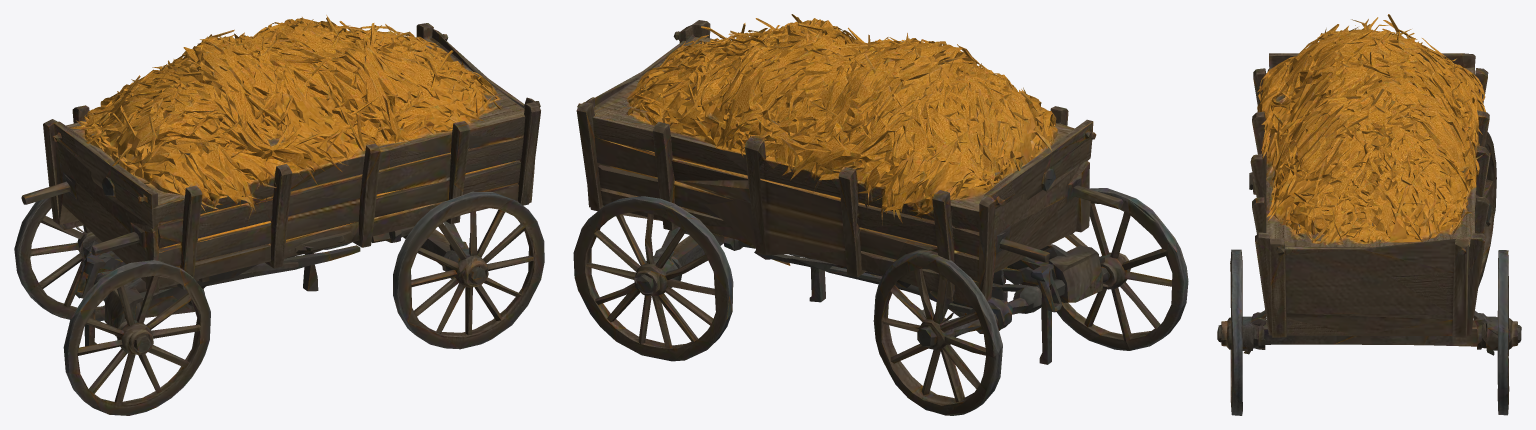
Rendered from wagon.glb.
3 renders of one model, left to right at view 1: azimuth 30°, elevation 25°; view 2: azimuth 150°, elevation 25°; view 3: azimuth 270°, elevation 25°, orthographic. The views are drawn at different scales.
Size of the model in its own units: 1.91 by 1.13 by 1.06.
Materials: 1 (1 with a texture image).
